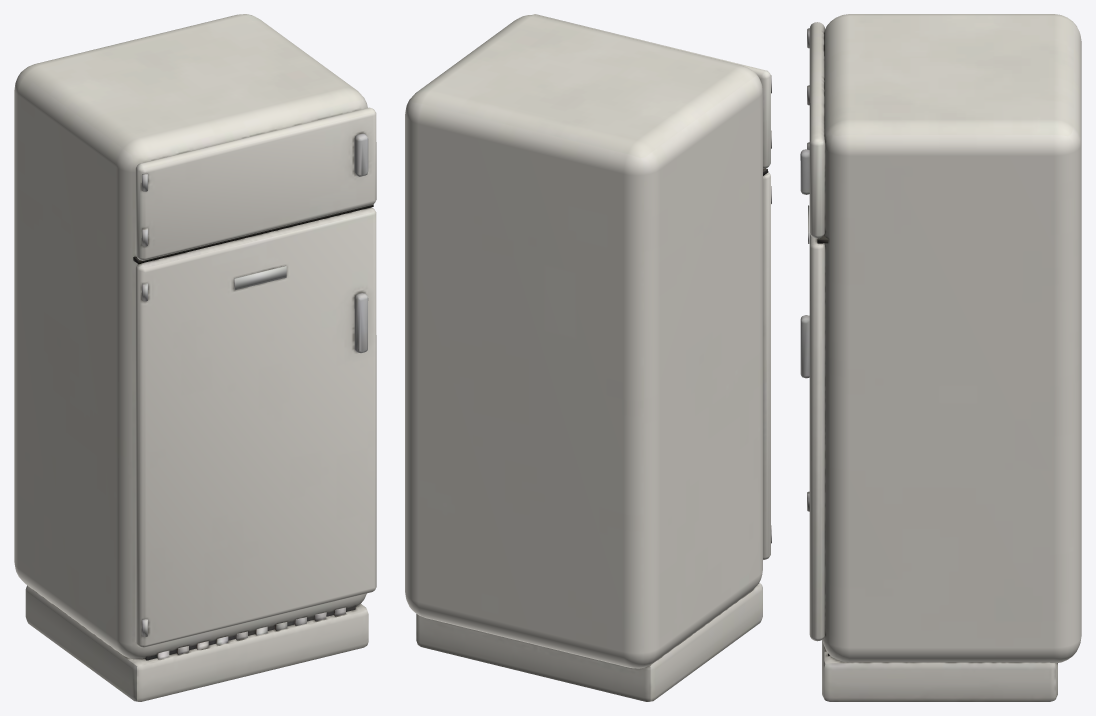
The model's file is fridge-low.glb.
3 views of the same model, side by side, from view 1: azimuth 30°, elevation 25°; view 2: azimuth 150°, elevation 25°; view 3: azimuth 270°, elevation 25° (orthographic). The views are drawn at different scales.
Parts seen in each view (by area): view 1: fridge-low; view 2: fridge-low; view 3: fridge-low.
Boxes of the visible parts, bbox=[...] form: fridge-low: bbox=[14, 14, 376, 701]; fridge-low: bbox=[405, 14, 771, 701]; fridge-low: bbox=[800, 14, 1081, 701].
Bounding box in the file's own units: 0.76 × 1.62 × 0.715.
Materials: 1 (1 with a texture image).
